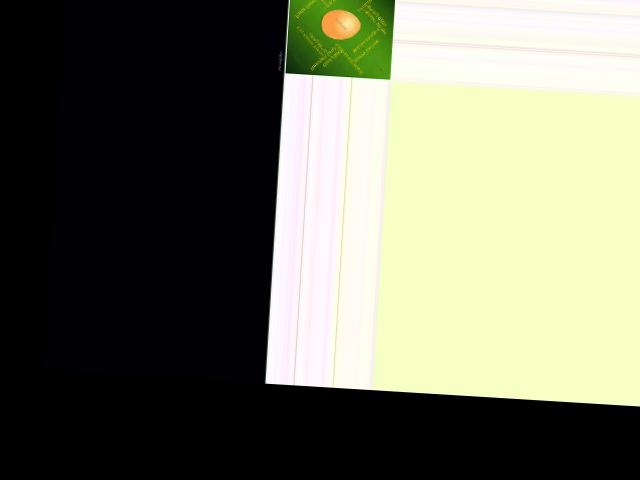egg: (321, 8, 360, 40)
